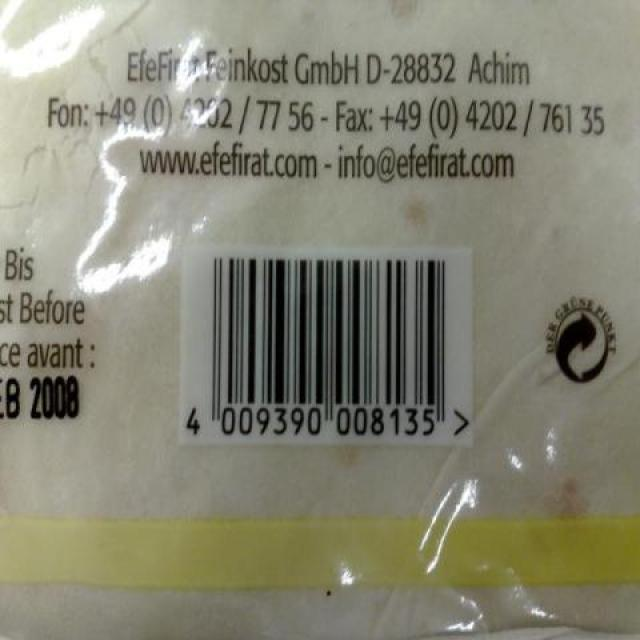Barcode: (180, 244, 473, 448)
